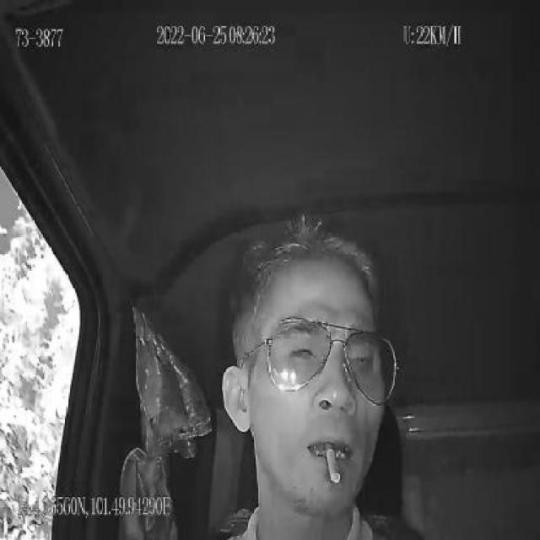smoking: (322, 433, 343, 491)
